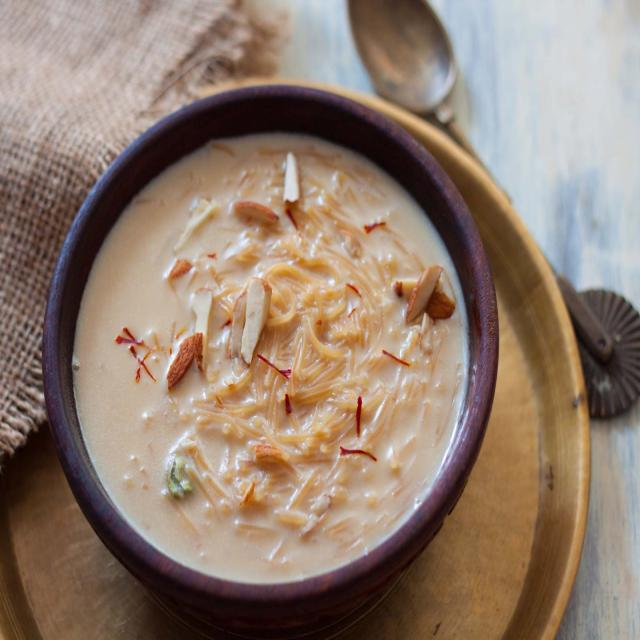shavige payasa: (62, 107, 480, 598)
